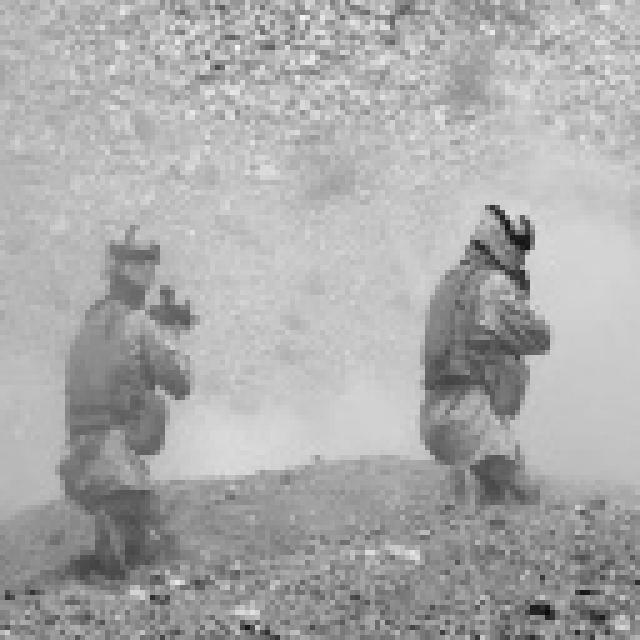Rifle: (107, 275, 231, 378)
